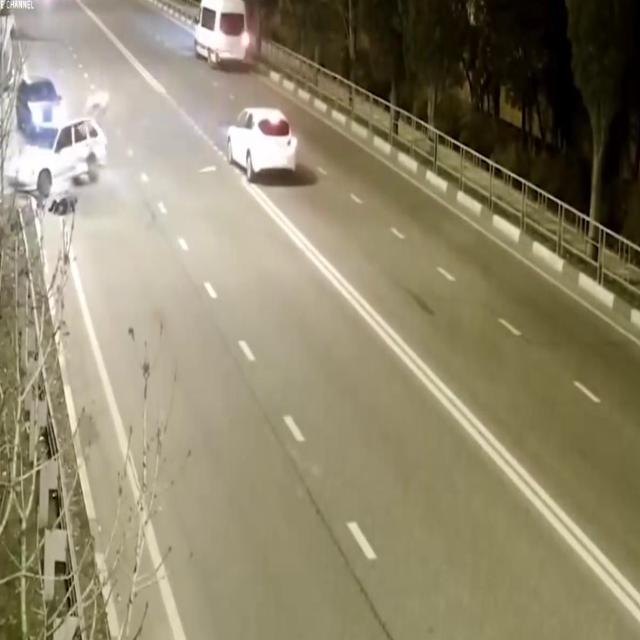accident: (2, 101, 118, 226)
